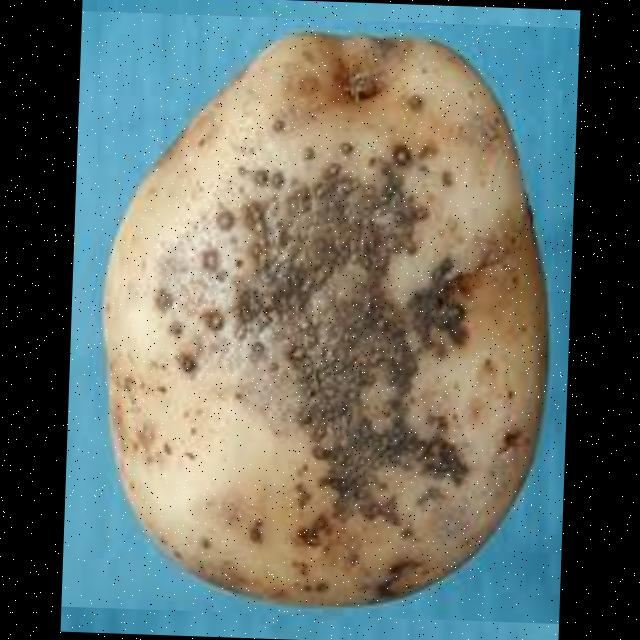Diseased-fungal potato: (61, 10, 579, 622)
